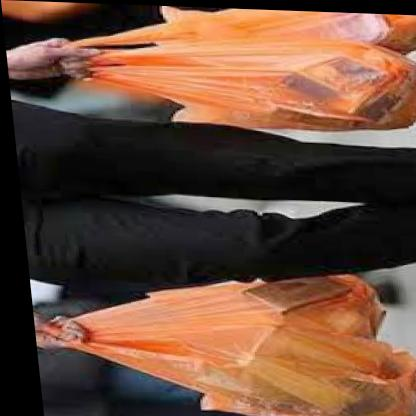Plastic: (30, 273, 416, 416), (54, 2, 416, 140)
